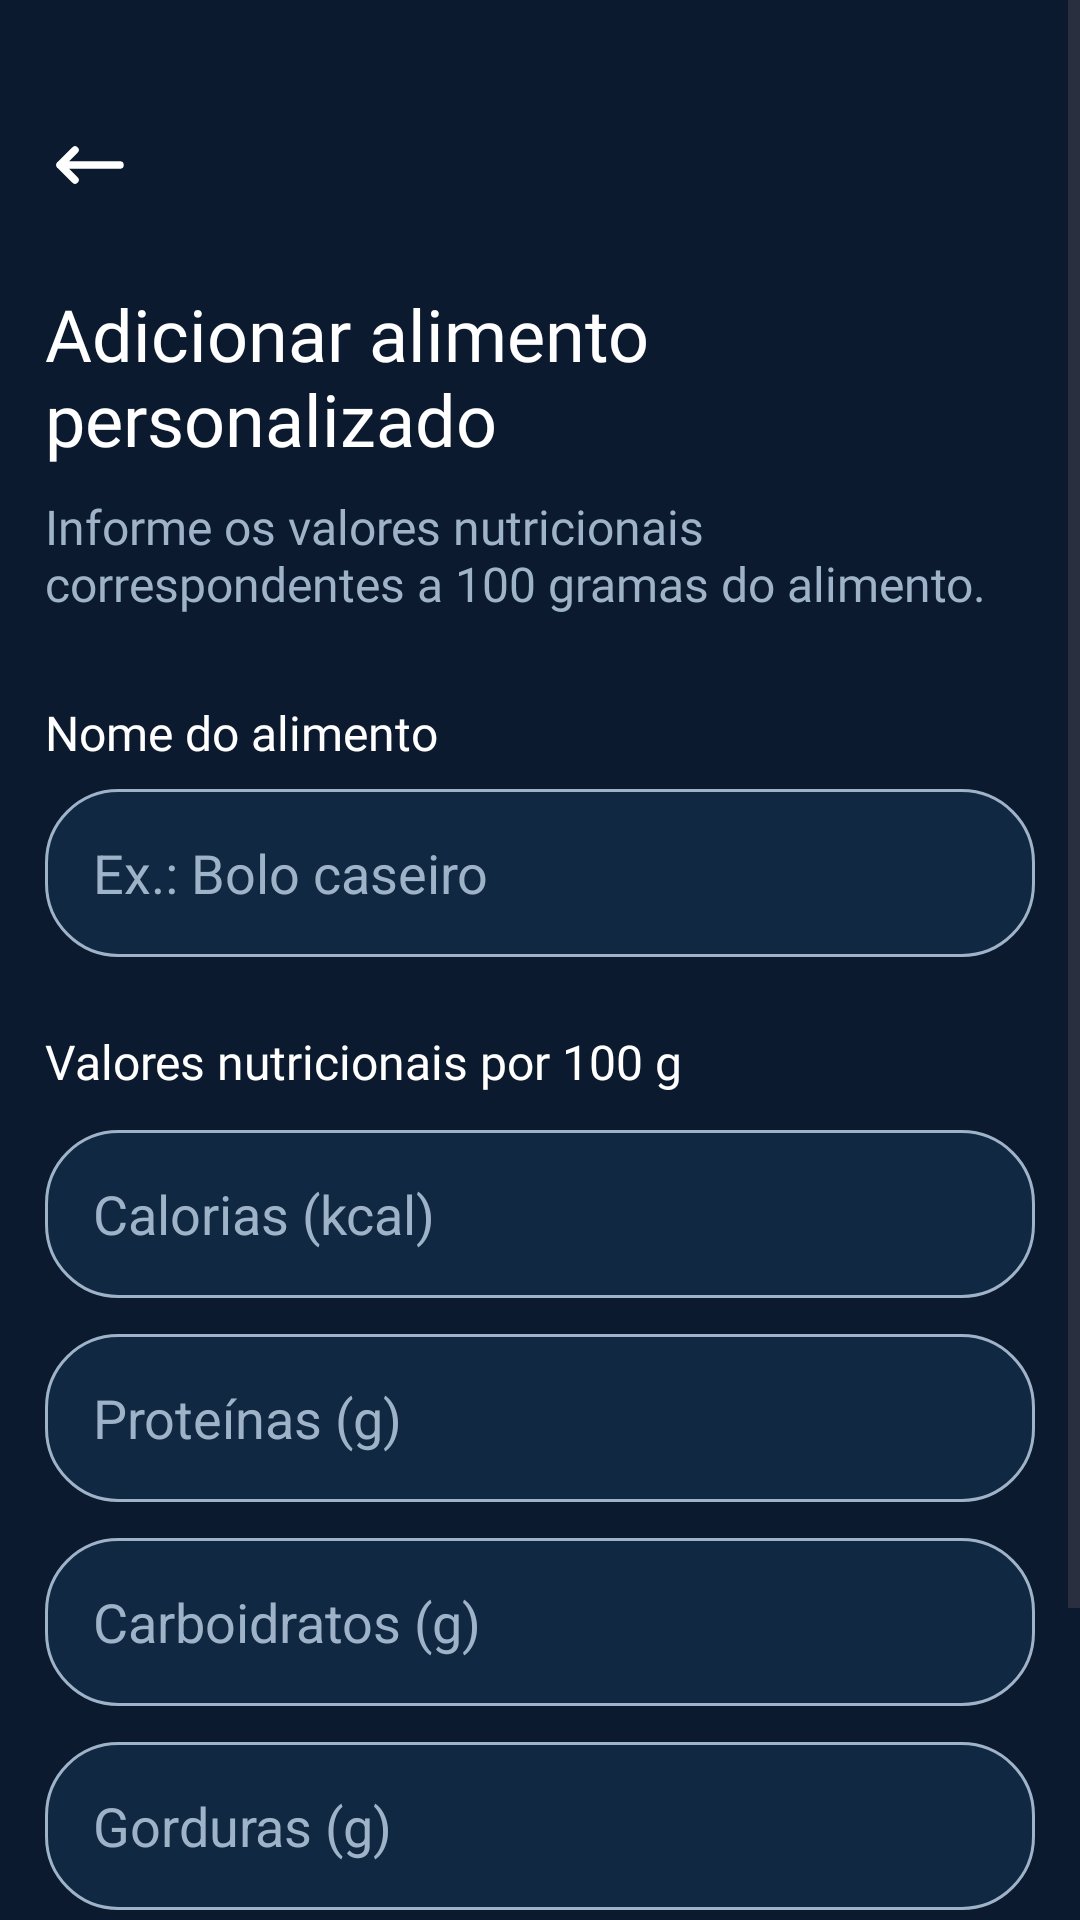

Where to tap for icons on this 1080*1920 app screen, as (x=x, y=y):
Voltar: (x=90, y=165)
